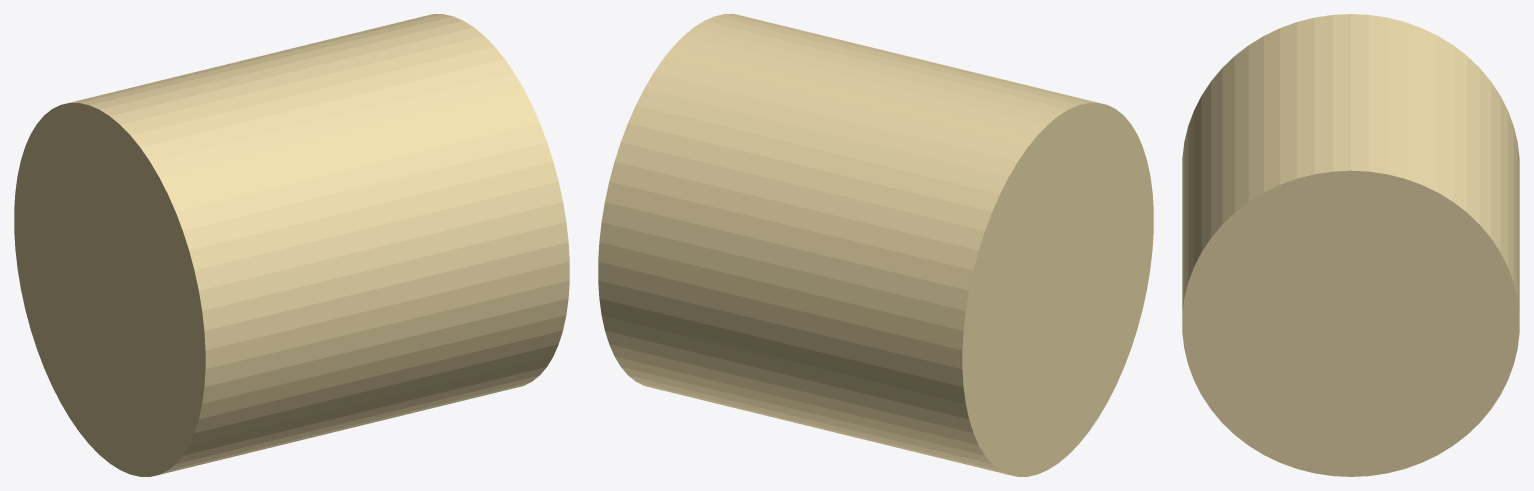
File: thermostat-wax.glb
3 views of the same model, side by side, from view 1: azimuth 30°, elevation 25°; view 2: azimuth 150°, elevation 25°; view 3: azimuth 270°, elevation 25° (orthographic). The views are drawn at different scales.
Parts seen in each view (by area): view 1: world; view 2: world; view 3: world.
Boxes of the visible parts, box(x1,y1,x2,y2) form: world: box(14, 14, 569, 476); world: box(598, 14, 1153, 476); world: box(1182, 14, 1519, 476).
Size of the model in its own units: 0.009 by 0.0082 by 0.00819.
